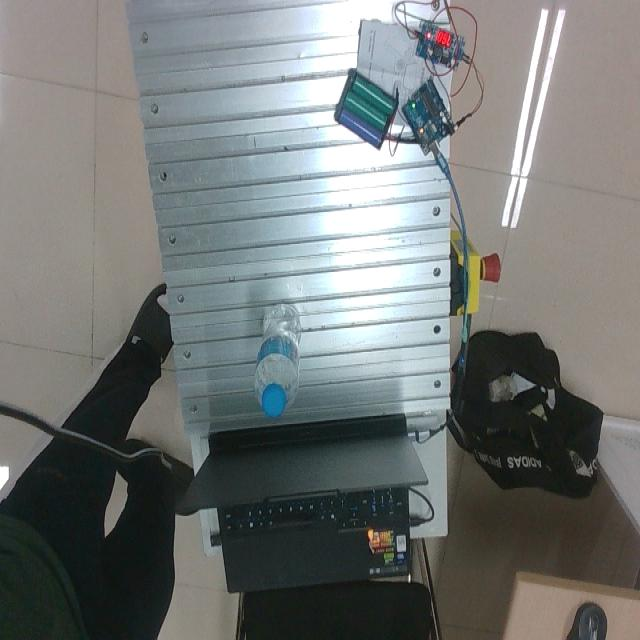lavie: (256, 304, 302, 416)
